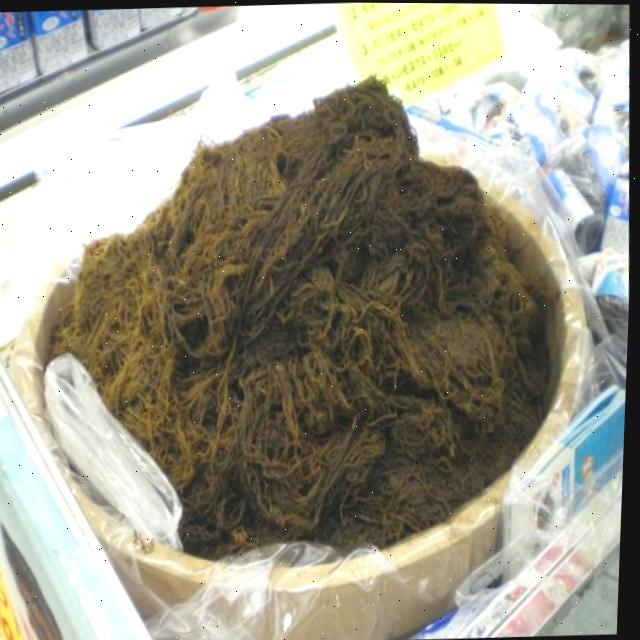蔬菜料理: (15, 20, 597, 640)
